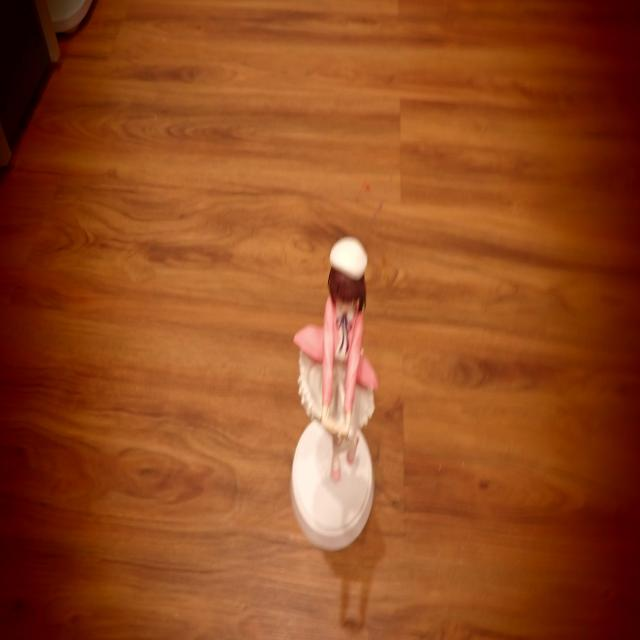My-pink-anime-figure: (294, 238, 377, 481)
